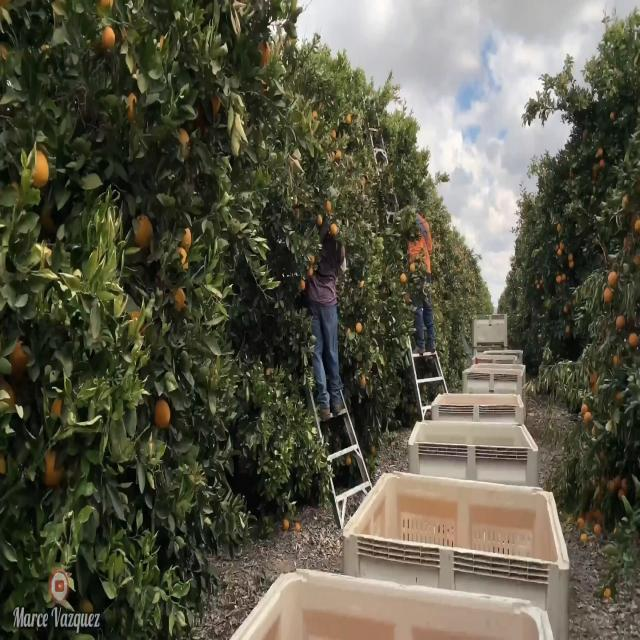Jeruk Sudah Matang: (37, 444, 73, 489), (27, 144, 52, 193), (8, 336, 36, 374), (131, 207, 155, 251), (49, 398, 78, 426), (126, 92, 146, 128), (155, 392, 173, 428), (169, 284, 189, 316), (176, 126, 192, 163), (100, 22, 119, 50), (179, 224, 196, 253), (614, 313, 626, 332), (609, 270, 618, 288), (580, 405, 590, 417), (596, 145, 603, 160), (630, 333, 638, 346), (344, 114, 354, 122), (610, 110, 616, 122)
